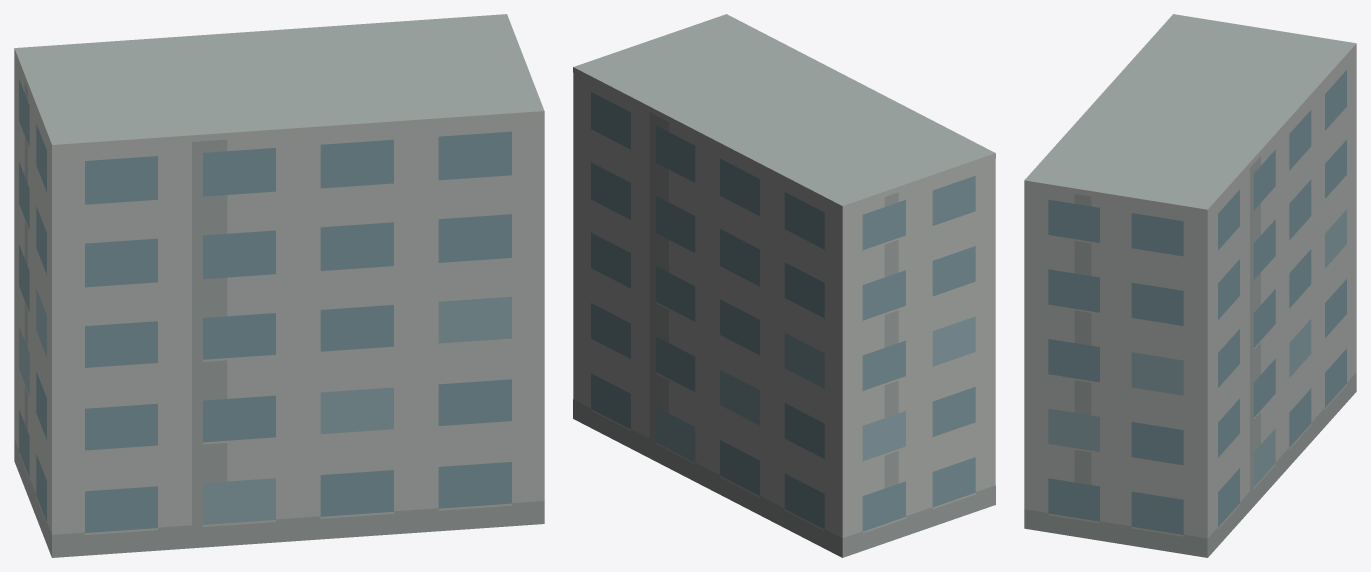
Rendered from residential-6767b405-e791-49f2-9ea6-e98a3b227927.glb.
The picture shows the model from 3 angles, left to right: view 1: azimuth 30°, elevation 25°; view 2: azimuth 150°, elevation 25°; view 3: azimuth 270°, elevation 25°; orthographic projection. The views are drawn at different scales.
Parts seen in each view (by area): view 1: residential-6767b405-e791-49f2-9ea6-e98a3b227927.tmp; view 2: residential-6767b405-e791-49f2-9ea6-e98a3b227927.tmp; view 3: residential-6767b405-e791-49f2-9ea6-e98a3b227927.tmp.
Part boxes in pixels (x1,y1,x2,y2): residential-6767b405-e791-49f2-9ea6-e98a3b227927.tmp: (14,14,544,557); residential-6767b405-e791-49f2-9ea6-e98a3b227927.tmp: (573,14,995,557); residential-6767b405-e791-49f2-9ea6-e98a3b227927.tmp: (1024,14,1356,557).
Size of the model in its own units: 18.39 by 15.25 by 13.2.
